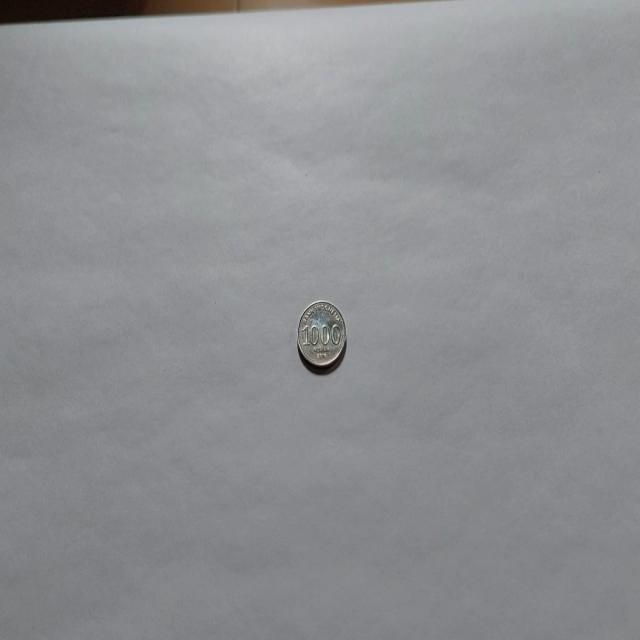seribu rupiah koin: (296, 298, 347, 372)
